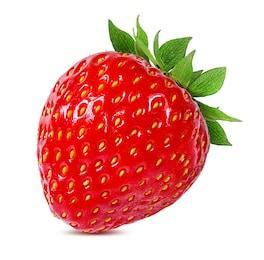Fresa: (32, 44, 212, 241)
